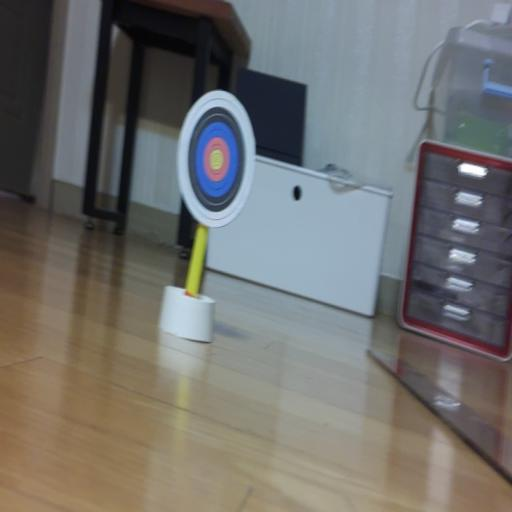target: (176, 91, 255, 228)
